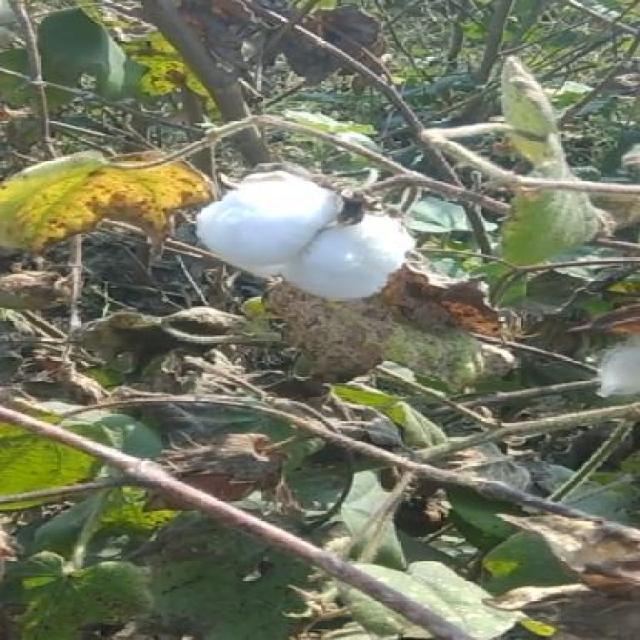cotton_ready: (135, 176, 442, 301)
